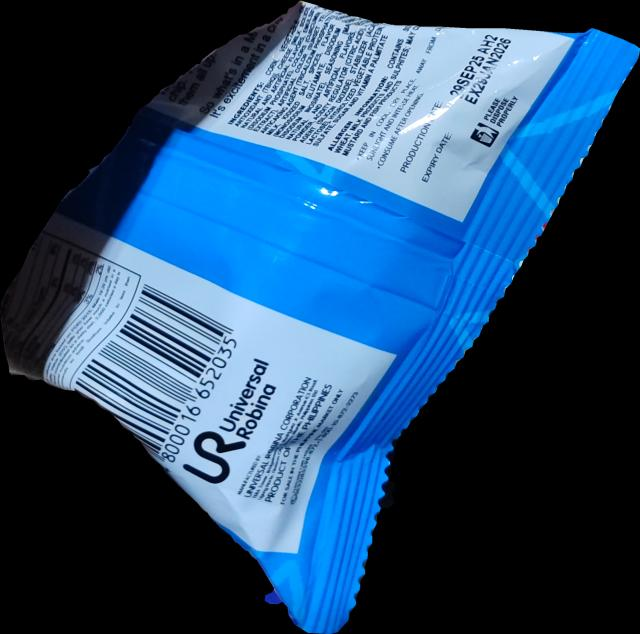mr chips: (0, 1, 640, 634)
